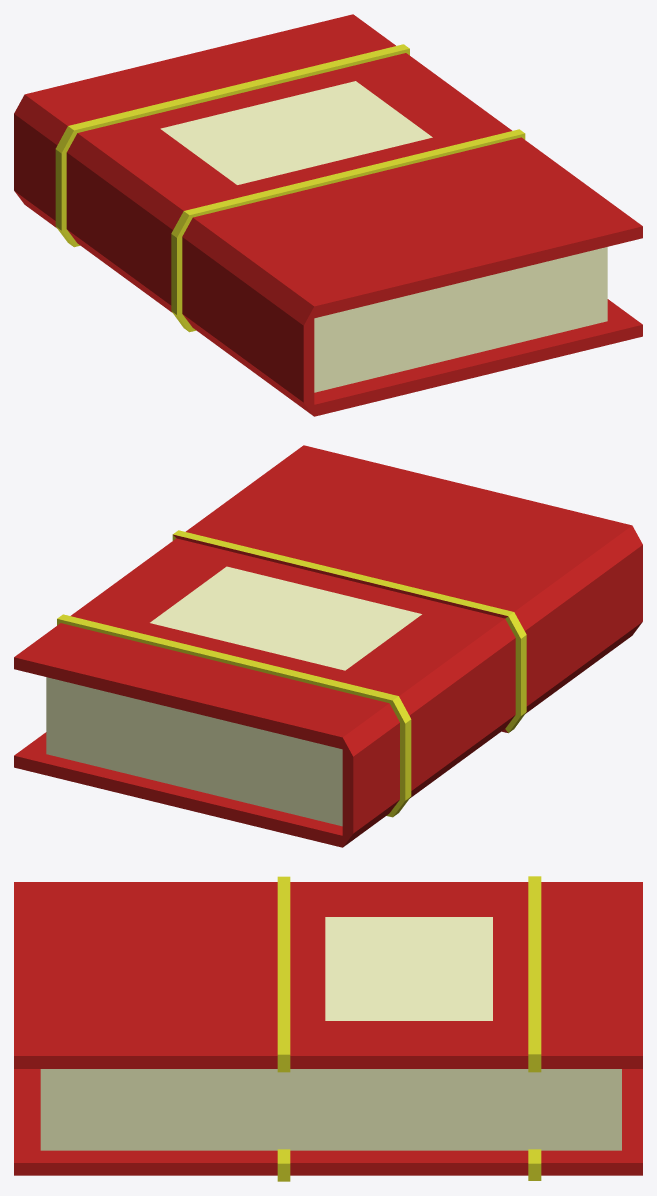
The model's file is identification_book.glb.
3 views of the same model, one above another, from view 1: azimuth 30°, elevation 25°; view 2: azimuth 150°, elevation 25°; view 3: azimuth 270°, elevation 25° (orthographic). The views are drawn at different scales.
Visible parts, largest first — view 1: Cube.223; view 2: Cube.223; view 3: Cube.223.
Boxes of the visible parts, x1,y1,x2,y2 form: Cube.223: [14, 14, 642, 416]; Cube.223: [14, 445, 642, 847]; Cube.223: [14, 876, 642, 1181].
Bounding box in the file's own units: 0.2914 × 0.0939 × 0.4199.
